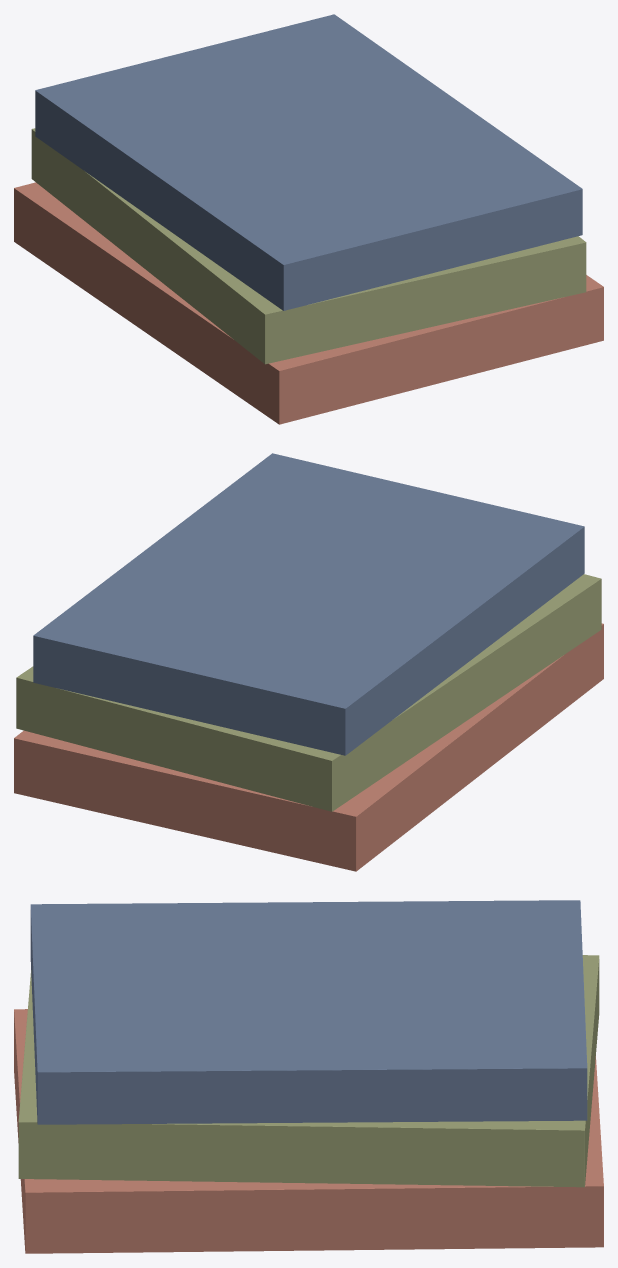
Rendered from p2s_book_stack_warm.glb.
The picture shows the model from 3 angles, top to bottom: view 1: azimuth 30°, elevation 25°; view 2: azimuth 150°, elevation 25°; view 3: azimuth 270°, elevation 25°; orthographic projection. The views are drawn at different scales.
Visible parts, largest first — view 1: Book_3, Book_1, Book_2; view 2: Book_3, Book_1, Book_2; view 3: Book_3, Book_1, Book_2.
Part boxes in pixels (bbox=[...]): Book_3: bbox=[35, 14, 582, 310]; Book_1: bbox=[14, 182, 603, 424]; Book_2: bbox=[31, 128, 586, 364]; Book_3: bbox=[33, 453, 584, 755]; Book_1: bbox=[14, 623, 603, 871]; Book_2: bbox=[16, 574, 601, 811]; Book_3: bbox=[30, 900, 587, 1124]; Book_1: bbox=[14, 1009, 603, 1253]; Book_2: bbox=[18, 955, 599, 1187].
Size of the model in its own units: 0.1862 by 0.079 by 0.2446.
